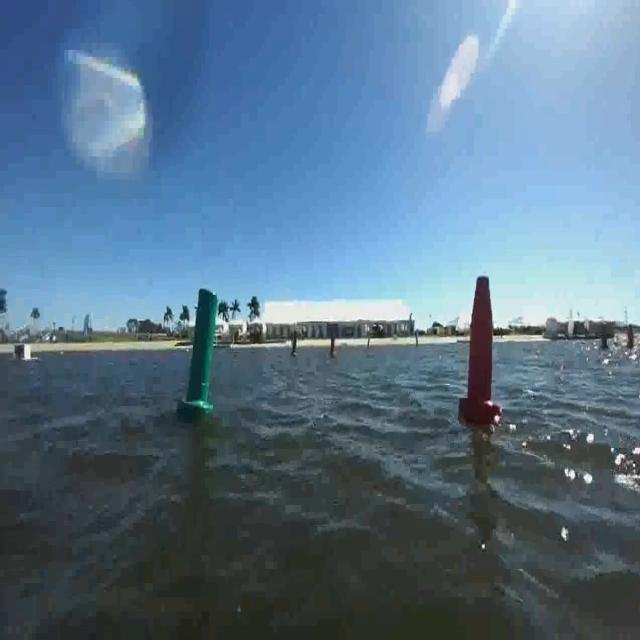green-column-buoy: (187, 287, 220, 414)
red-column-buoy: (461, 268, 501, 424)
